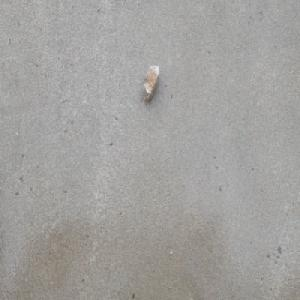Rock: (142, 63, 160, 104)
